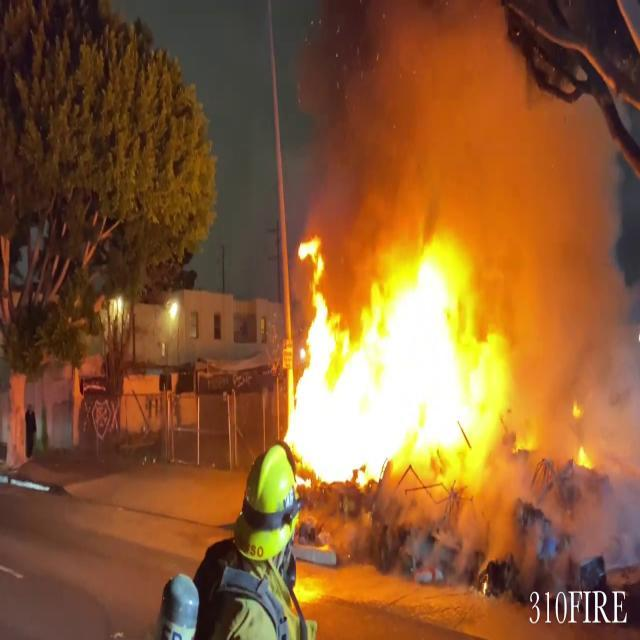Fire: (282, 217, 515, 495)
Smoke: (475, 66, 640, 558)
